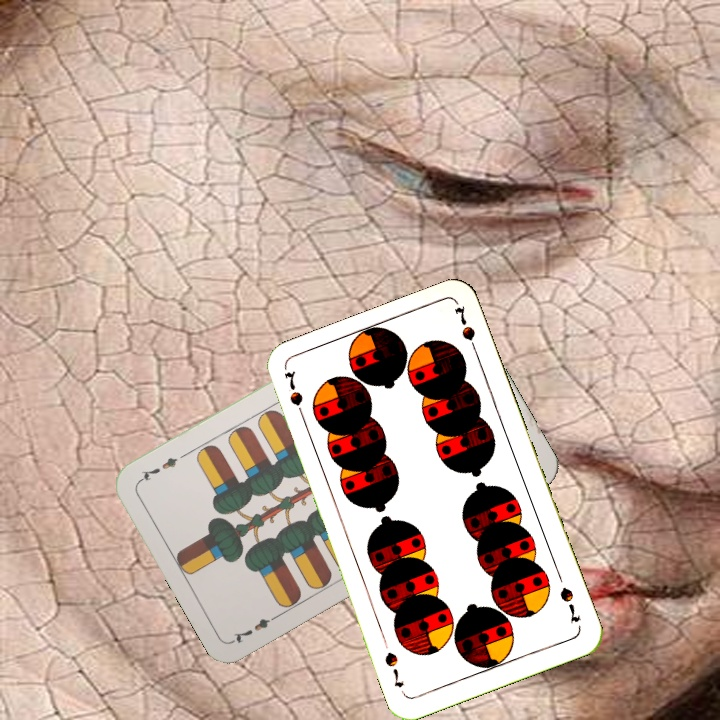E7: (229, 609, 283, 646)
S7: (280, 367, 308, 424), (555, 583, 583, 627)
